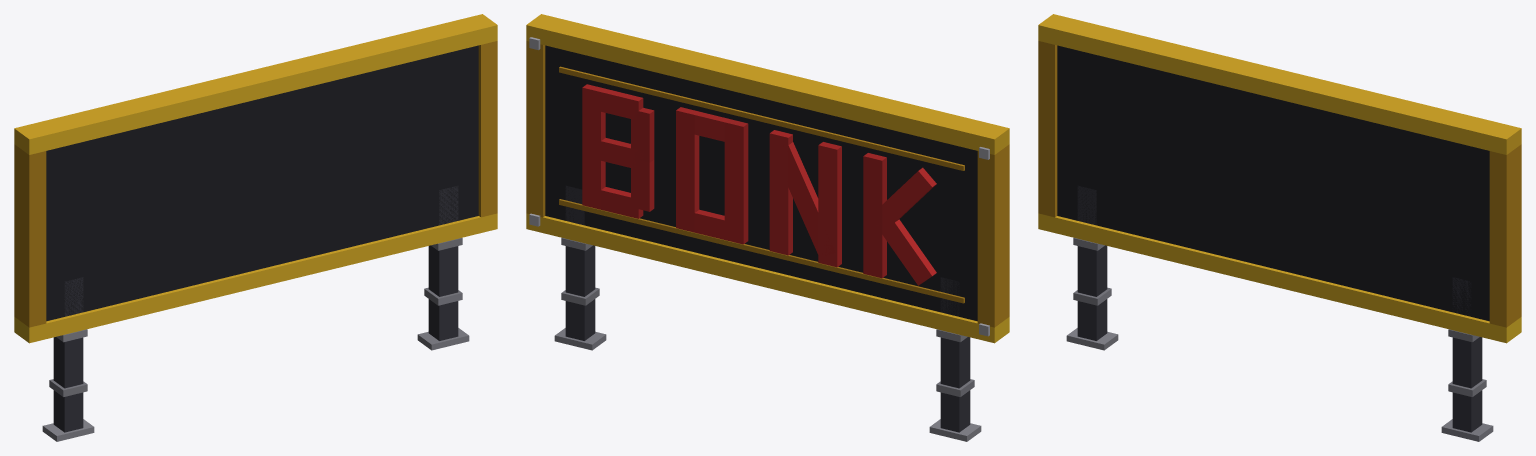
Rendered from Decor_GymHall_Sign.fbx.
3 renders of one model, left to right at view 1: azimuth 30°, elevation 25°; view 2: azimuth 150°, elevation 25°; view 3: azimuth 330°, elevation 25°, orthographic.
Parts seen in each view (by area): view 1: Sign_Body; view 2: Sign_Body; view 3: Sign_Body.
Boxes of the visible parts, x1,y1,x2,y2 form: Sign_Body: (14, 14, 497, 441); Sign_Body: (526, 14, 1009, 441); Sign_Body: (1038, 14, 1521, 441).
Bounding box in the file's own units: 25 × 15.8 × 1.75.
